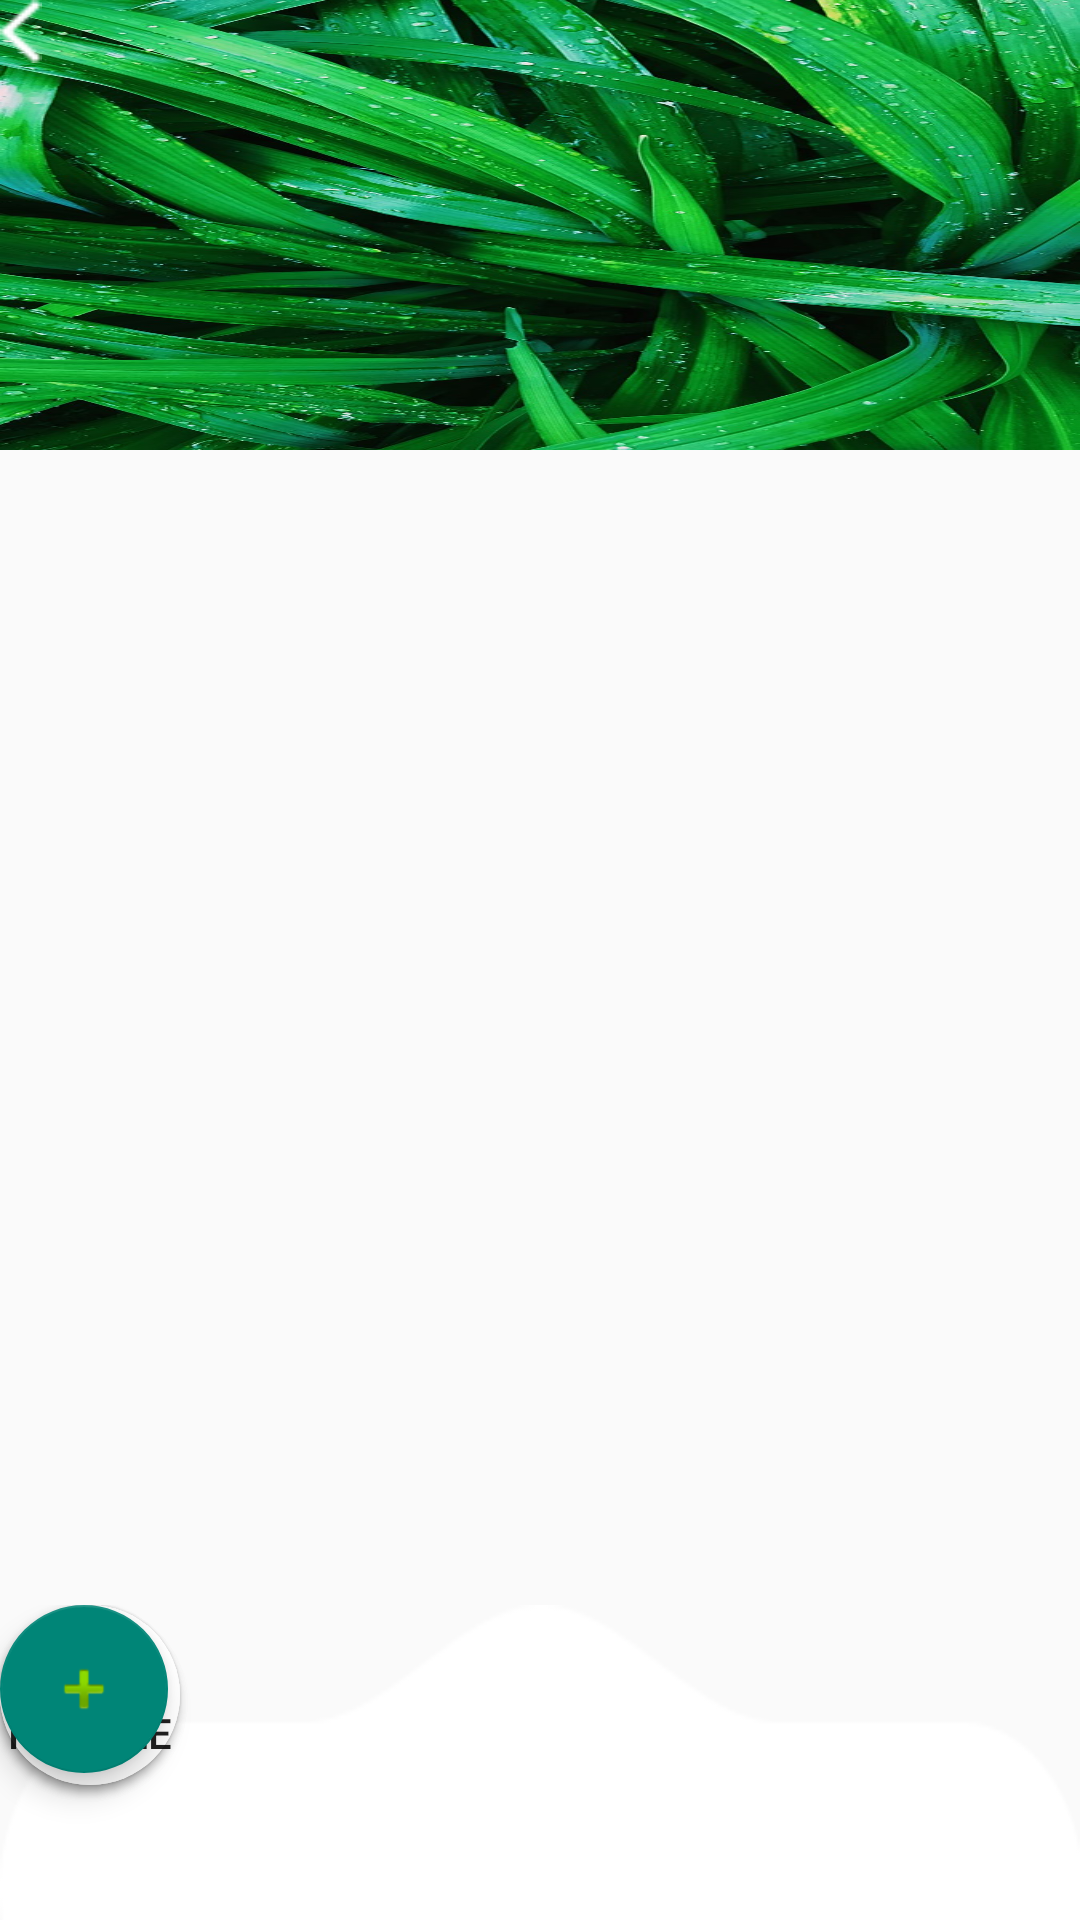

Named icons in this screenshot (1080 x 1920) and their centers, [x,y]:
add: [84,1689]
